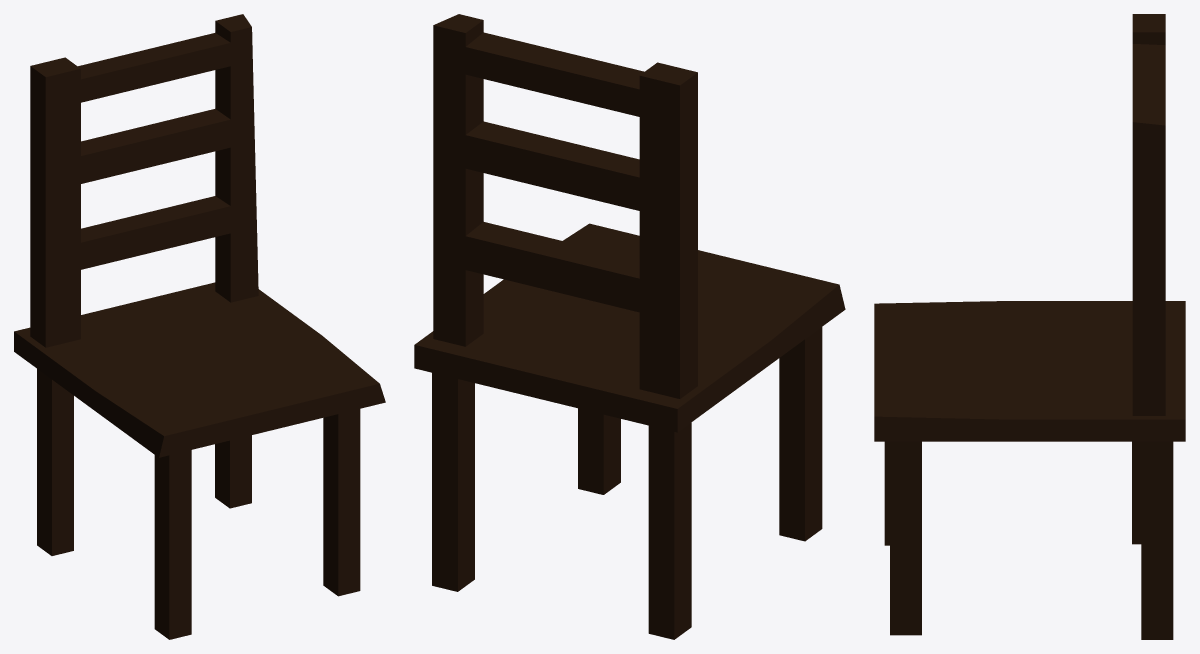
Rendered from Chair.fbx.
3 renders of one model, left to right at view 1: azimuth 30°, elevation 25°; view 2: azimuth 150°, elevation 25°; view 3: azimuth 270°, elevation 25°, orthographic. The views are drawn at different scales.
Parts seen in each view (by area): view 1: Chair; view 2: Chair; view 3: Chair.
Part boxes in pixels (left/top/right/bottom): Chair: left=14, top=14, right=385, bottom=639; Chair: left=414, top=14, right=845, bottom=639; Chair: left=874, top=14, right=1185, bottom=639.
Size of the model in its own units: 1680 by 3071 by 1518.
